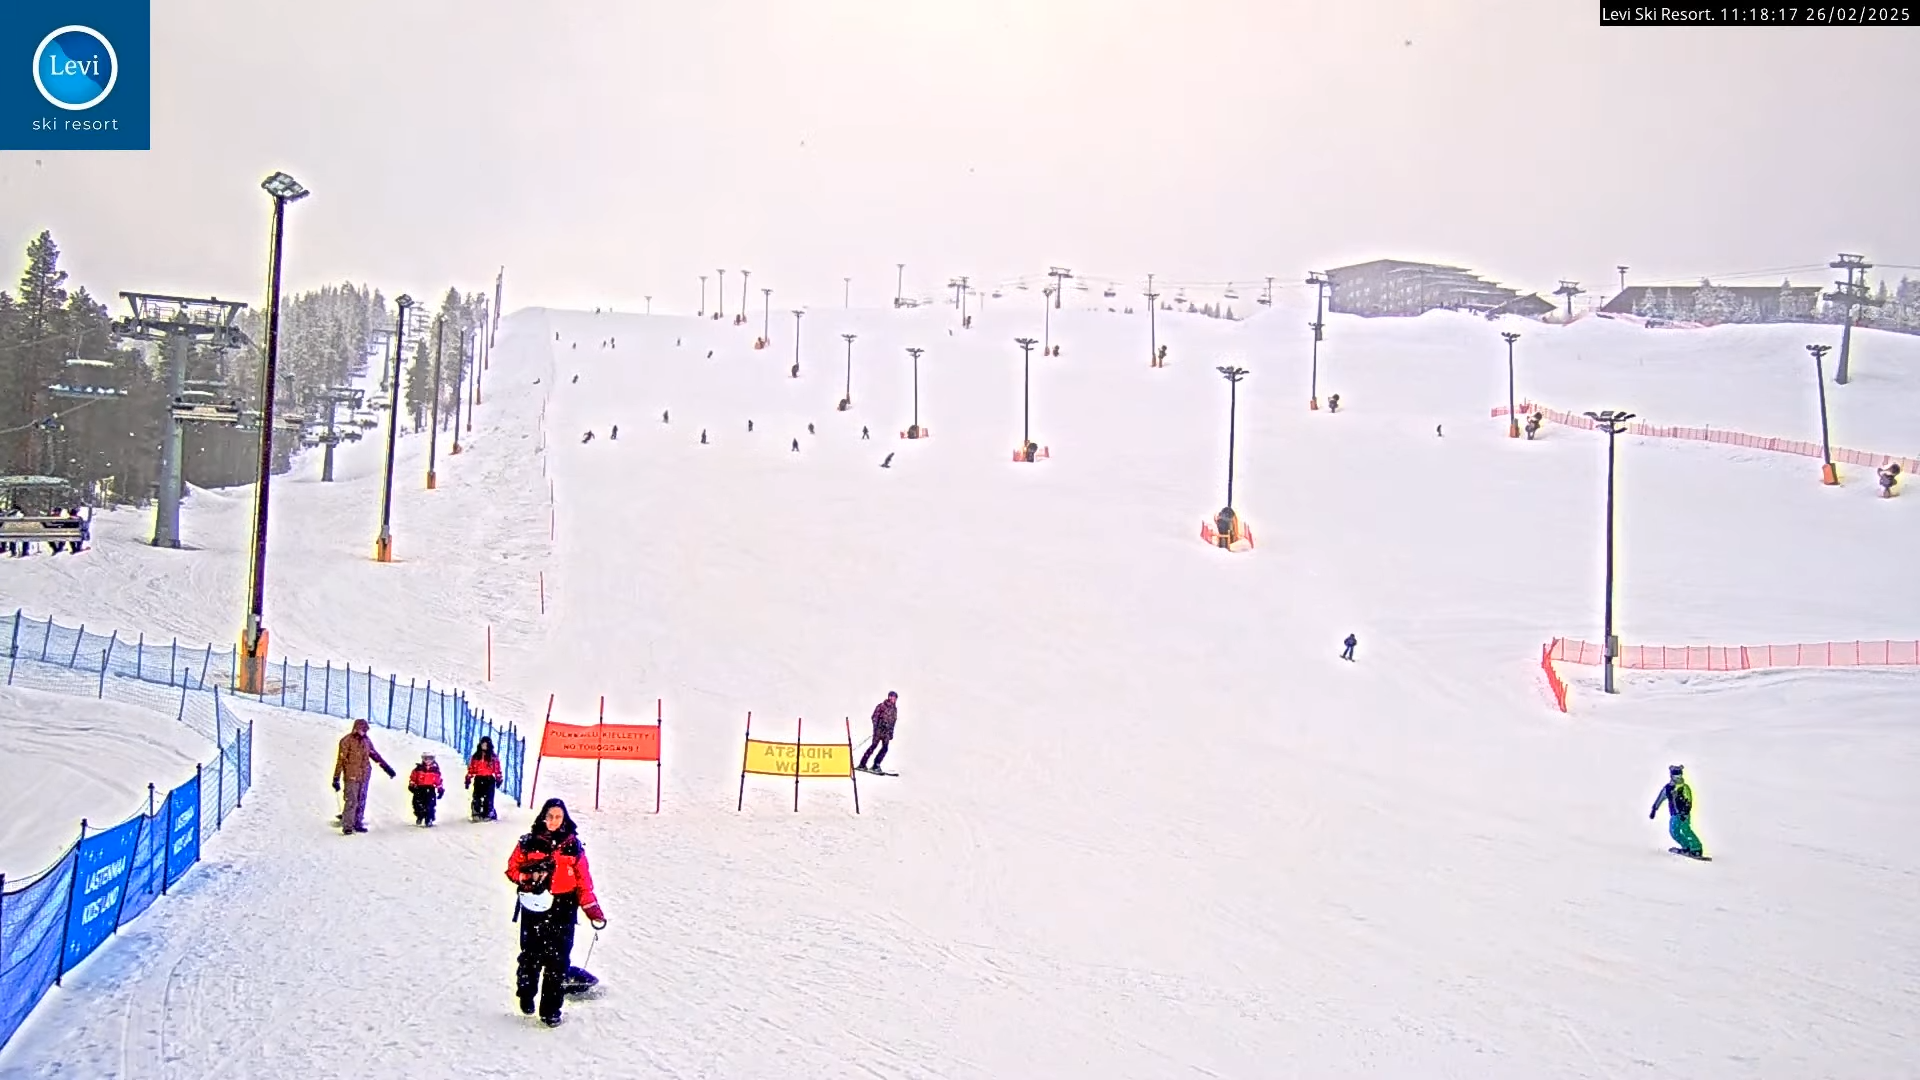skier: (852, 694, 902, 778), (1340, 629, 1358, 661)
snowboarder: (1650, 764, 1718, 861)
